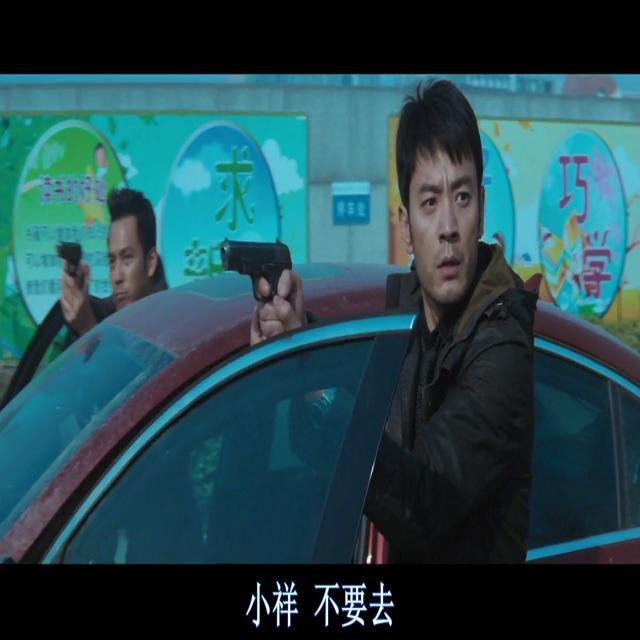gun-knife-thesis - v11 Yolov5 augmented: (219, 231, 300, 341), (52, 236, 86, 315)
